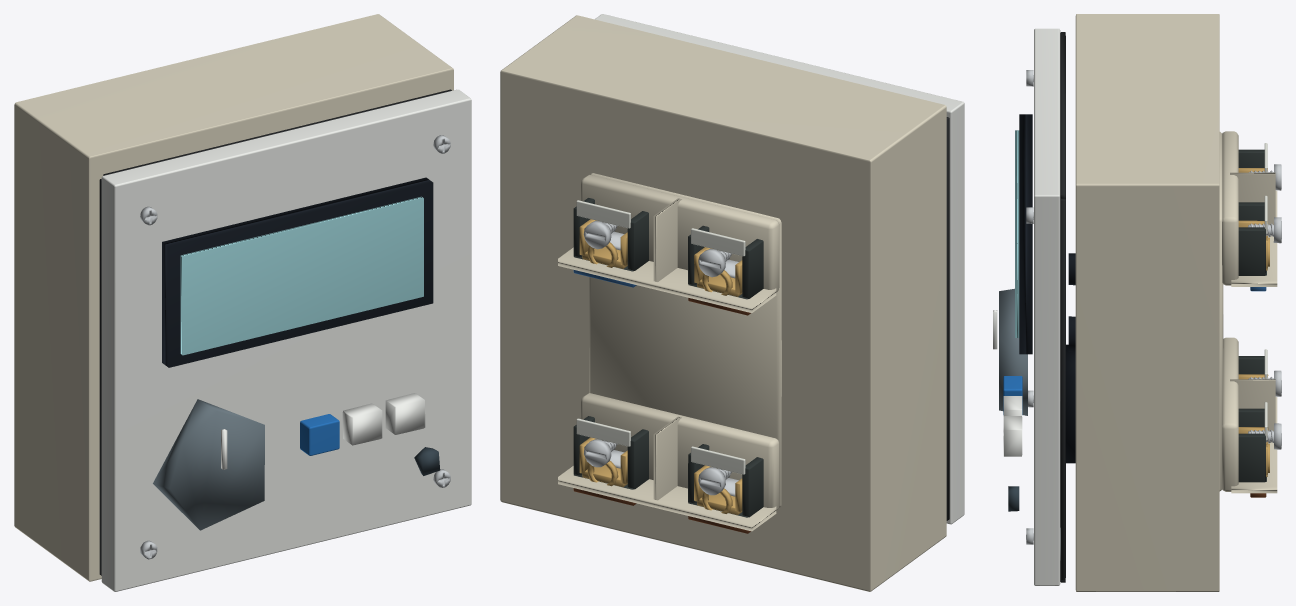
File: timer_default.low.glb
3 views of the same model, side by side, from view 1: azimuth 30°, elevation 25°; view 2: azimuth 150°, elevation 25°; view 3: azimuth 270°, elevation 25° (orthographic). The views are drawn at different scales.
Parts seen in each view (by area): view 1: part:cover, part:body, part:display, part:body.001, part:body.001 · Original 7dbee62c, detail:enclosure-gasket-and-fixings · Detail rubber gasket, detail:enclosure-gasket-and-fixings · Detail zinc plated fix; view 2: part:body, part:terminals · Original 5a609f27, part:cover, detail:terminal-clamp:OUT · Detail moulded engineering polym, detail:terminal-clamp:N · Detail moulded engineering polymer, detail:terminal-clamp:L · Detail moulded engineering polymer, detail:enclosure-gasket-and-fixings · Detail rubber gasket, detail:terminal-clamp:IN · Detail moulded engineering polyme, detail:terminal-clamp:N · Detail machined brass, detail:terminal-clamp:OUT · Detail machined brass, detail:terminal-clamp:IN · Detail machined brass, detail:terminal-clamp:L · Detail machined brass (+8 smaller); view 3: part:body, part:cover, part:terminals · Original 5a609f27, part:display, detail:enclosure-gasket-and-fixings · Detail rubber gasket, part:body.001, detail:terminal-clamp:OUT · Detail moulded engineering polym, detail:terminal-clamp:N · Detail moulded engineering polymer, part:body.001 · Original 7dbee62c, part:contacts, part:electronics · Original 3ff2d46d, detail:enclosure-gasket-and-fixings · Detail zinc plated fix (+2 smaller).
Boxes of the visible parts, left/top/right/bottom form: part:cover: left=101, top=89, right=471, bottom=591; part:body: left=14, top=14, right=453, bottom=581; part:display: left=162, top=177, right=433, bottom=367; part:body.001: left=153, top=399, right=339, bottom=530; part:body.001 · Original 7dbee62c: left=221, top=393, right=425, bottom=469; detail:enclosure-gasket-and-fixings · Detail rubber gasket: left=99, top=89, right=451, bottom=575; detail:enclosure-gasket-and-fixings · Detail zinc plated fix: left=140, top=135, right=450, bottom=559; part:body: left=500, top=15, right=946, bottom=591; part:terminals · Original 5a609f27: left=558, top=173, right=781, bottom=531; part:cover: left=595, top=14, right=964, bottom=524; detail:terminal-clamp:OUT · Detail moulded engineering polym: left=573, top=416, right=648, bottom=489; detail:terminal-clamp:N · Detail moulded engineering polymer: left=573, top=198, right=648, bottom=271; detail:terminal-clamp:L · Detail moulded engineering polymer: left=688, top=225, right=763, bottom=299; detail:enclosure-gasket-and-fixings · Detail rubber gasket: left=946, top=117, right=949, bottom=520; detail:terminal-clamp:IN · Detail moulded engineering polyme: left=688, top=444, right=763, bottom=517; detail:terminal-clamp:N · Detail machined brass: left=579, top=219, right=627, bottom=268; detail:terminal-clamp:OUT · Detail machined brass: left=579, top=437, right=627, bottom=487; detail:terminal-clamp:IN · Detail machined brass: left=694, top=465, right=742, bottom=514; detail:terminal-clamp:L · Detail machined brass: left=694, top=247, right=742, bottom=296; part:body: left=1075, top=14, right=1219, bottom=591; part:cover: left=1034, top=28, right=1060, bottom=585; part:terminals · Original 5a609f27: left=1219, top=131, right=1277, bottom=493; part:display: left=1015, top=114, right=1032, bottom=354; detail:enclosure-gasket-and-fixings · Detail rubber gasket: left=1060, top=32, right=1065, bottom=582; part:body.001: left=999, top=288, right=1027, bottom=415; detail:terminal-clamp:OUT · Detail moulded engineering polym: left=1238, top=408, right=1266, bottom=482; detail:terminal-clamp:N · Detail moulded engineering polymer: left=1238, top=202, right=1266, bottom=275; part:body.001 · Original 7dbee62c: left=993, top=310, right=1022, bottom=456; part:contacts: left=1060, top=344, right=1075, bottom=463; part:electronics · Original 3ff2d46d: left=1068, top=253, right=1075, bottom=351; detail:enclosure-gasket-and-fixings · Detail zinc plated fix: left=1026, top=70, right=1033, bottom=544.
Size of the model in its own units: 0.7954 by 0.8845 by 0.5669.
